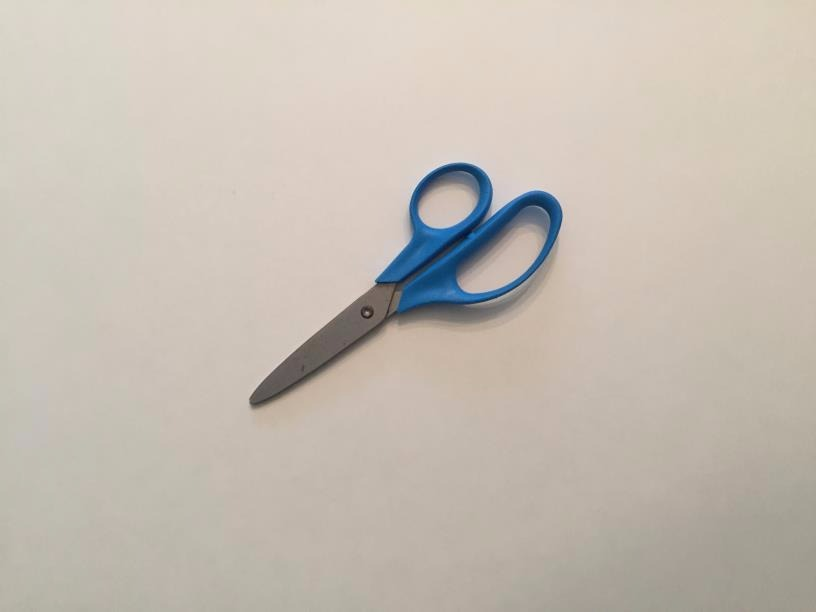scissor: (220, 130, 589, 444)
